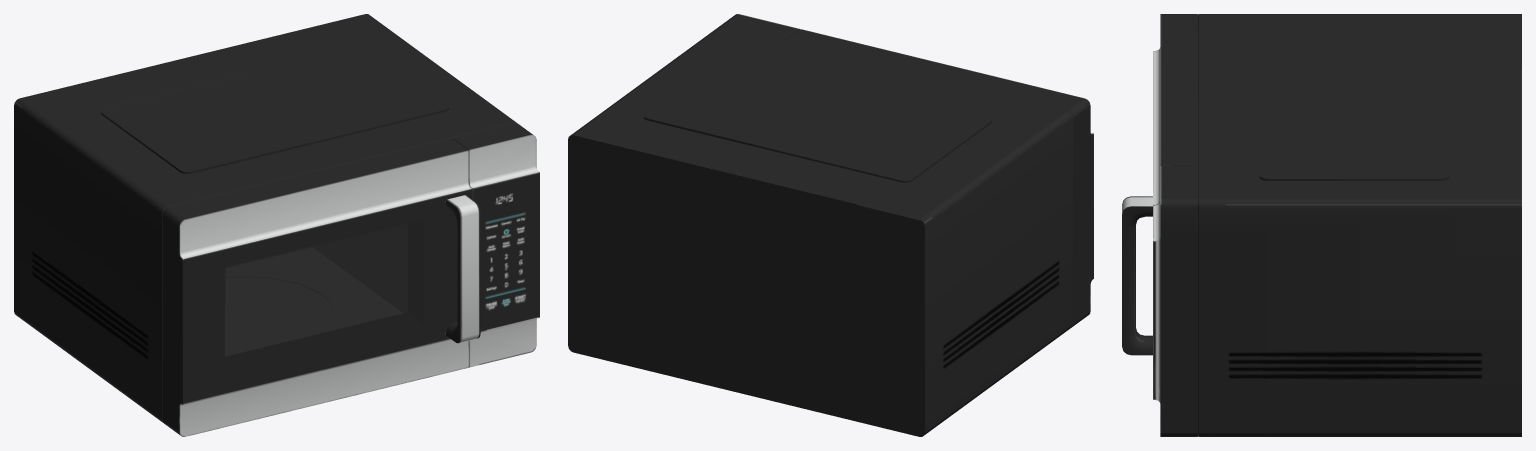
The model's file is electronic7.glb.
3 views of the same model, side by side, from view 1: azimuth 30°, elevation 25°; view 2: azimuth 150°, elevation 25°; view 3: azimuth 270°, elevation 25° (orthographic). The views are drawn at different scales.
Visible parts, largest first — view 1: Cube.028, Cube.030, Cube.029; view 2: Cube.028, Cube.030; view 3: Cube.028, Cube.030, Cube.029.
Boxes of the visible parts, <box> form: Cube.028: <box>14,14,539,422</box>; Cube.030: <box>162,138,472,436</box>; Cube.029: <box>446,195,480,343</box>; Cube.028: <box>568,14,1072,436</box>; Cube.030: <box>784,29,1093,326</box>; Cube.028: <box>1153,14,1521,436</box>; Cube.030: <box>1153,14,1198,205</box>; Cube.029: <box>1122,196,1152,355</box>.
Bounding box in the file's own units: 55 × 34.23 × 48.84.
1 material, 1 textured.
